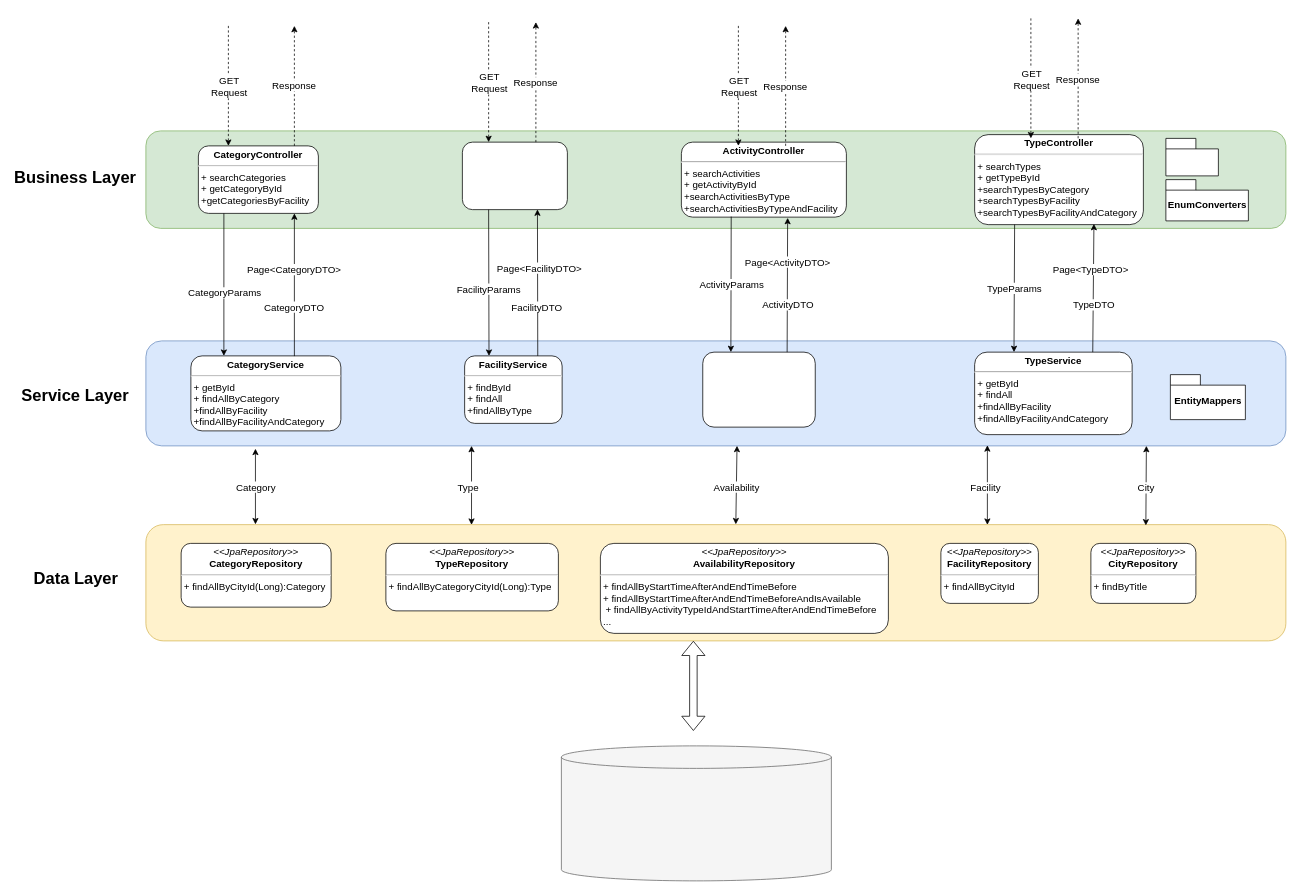
The diagram is 1299 pixels wide and 894 high, and some of its shapes have lost their labels. Here are the shapes that lost their labels. From the top down, the centre of each, then its label:
At (x=514, y=175): "FacilityController + findAll + findById + findByType".
At (x=1191, y=157): "Enums".
At (x=758, y=389): "ActivityService + findById + findAll + findByType + findByFacilityAndType".
At (x=696, y=813): "MySQL ORM".
